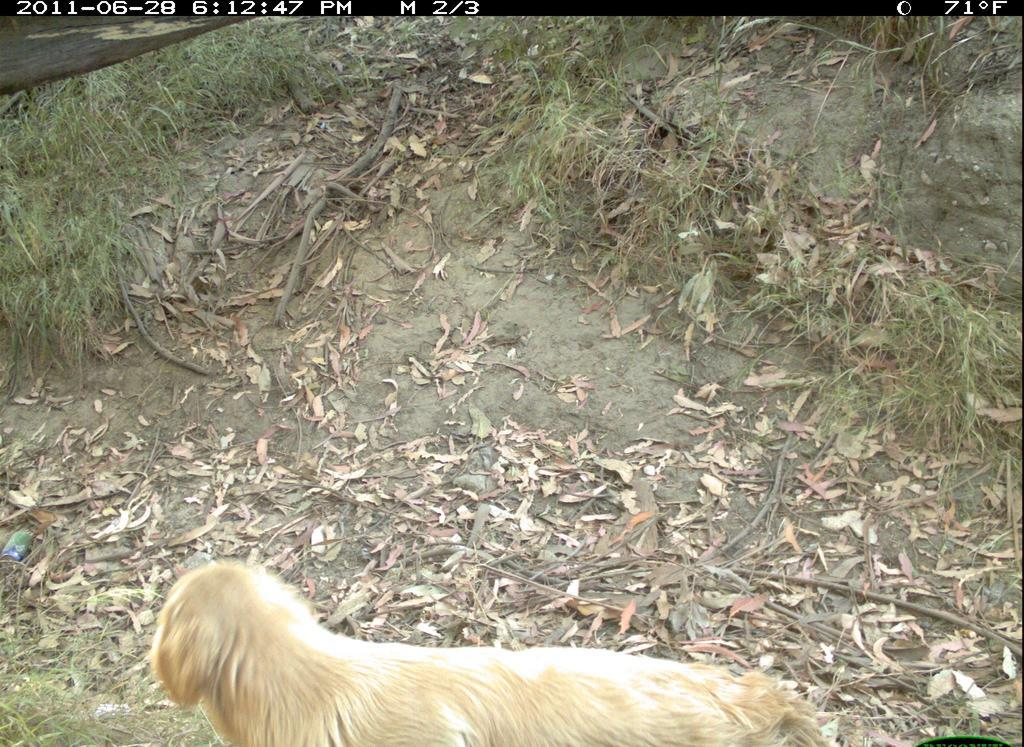dog: (152, 557, 835, 745)
